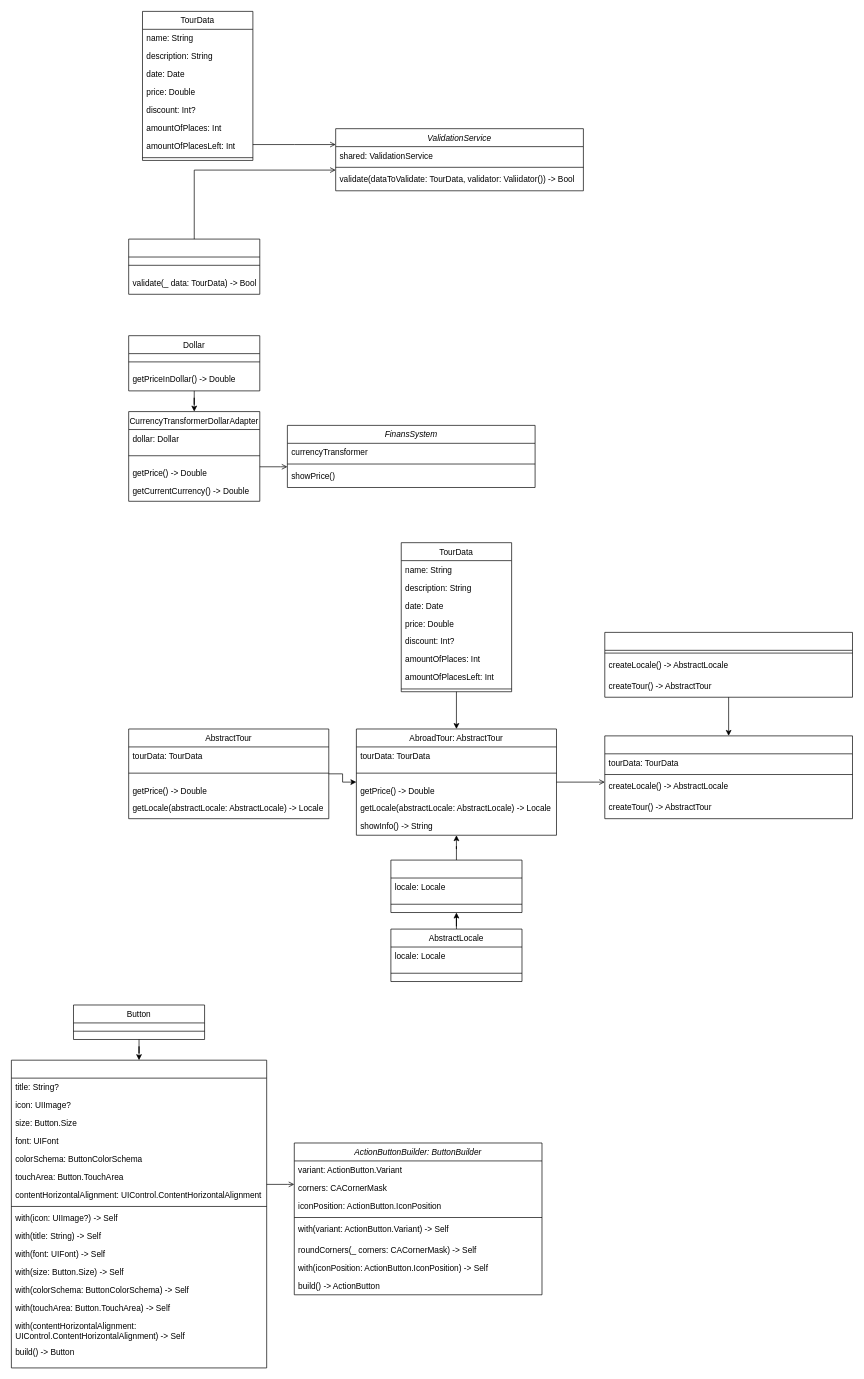
Image size: 864x1379. Some labels were removed from this diagram. The shapes that lost their labels are listed below. From the top down, each one's box as (x1, y1, x2, y2) in pixels, then its label:
(128, 238, 260, 294): Validator
(604, 632, 852, 697): TourFactory
(604, 735, 852, 819): AbroadTourFactory: TourFactory
(390, 859, 522, 913): Abroad: AbstractLocale
(11, 1059, 267, 1368): ButtonBuilder
